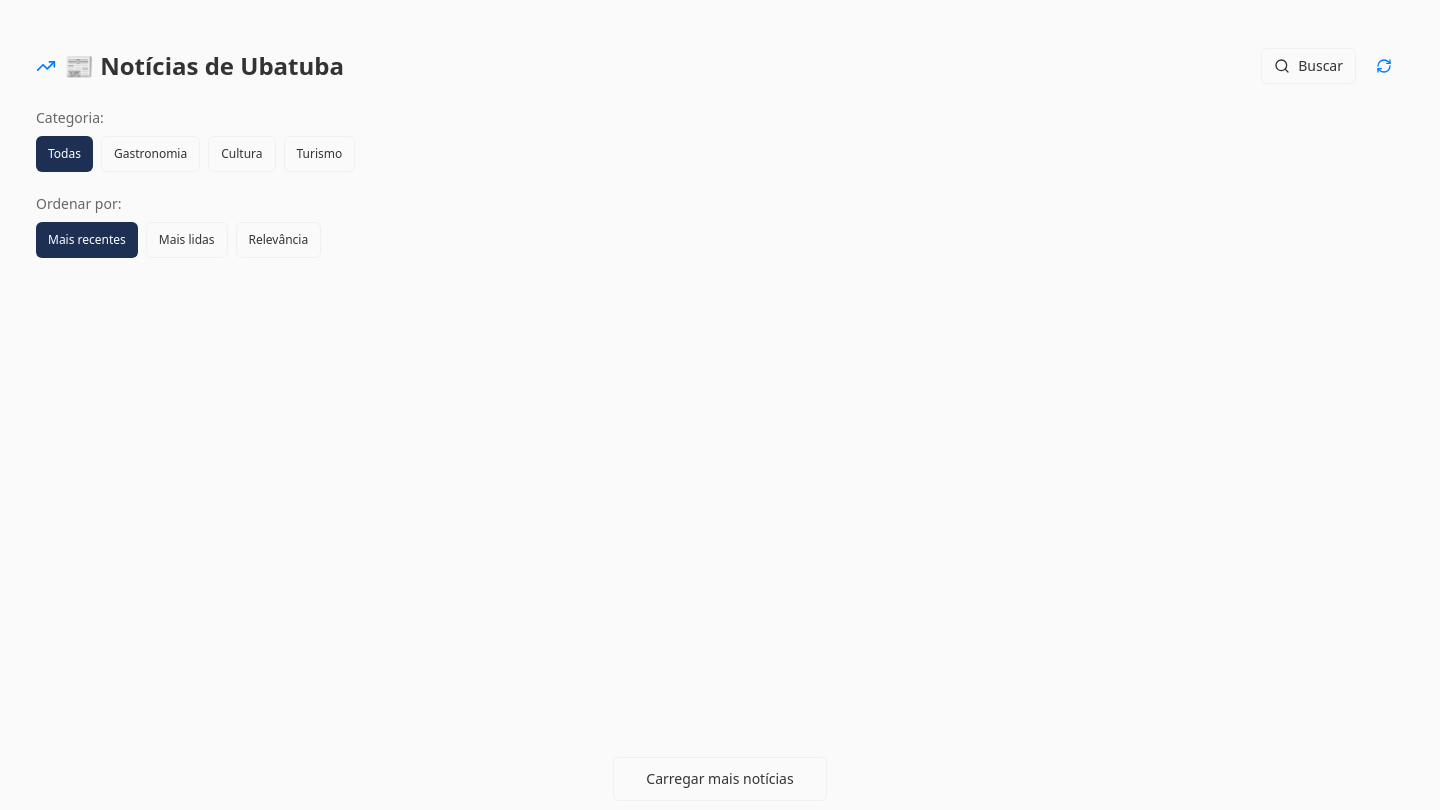
Test: MobileNewsFeed › filtra notícias por categoria
What coordinates should you click on to do the following:
click the tab "Gastronomia"
I would click on:
 (151, 154)
Its box is top-left (101, 136), bottom-right (200, 172).
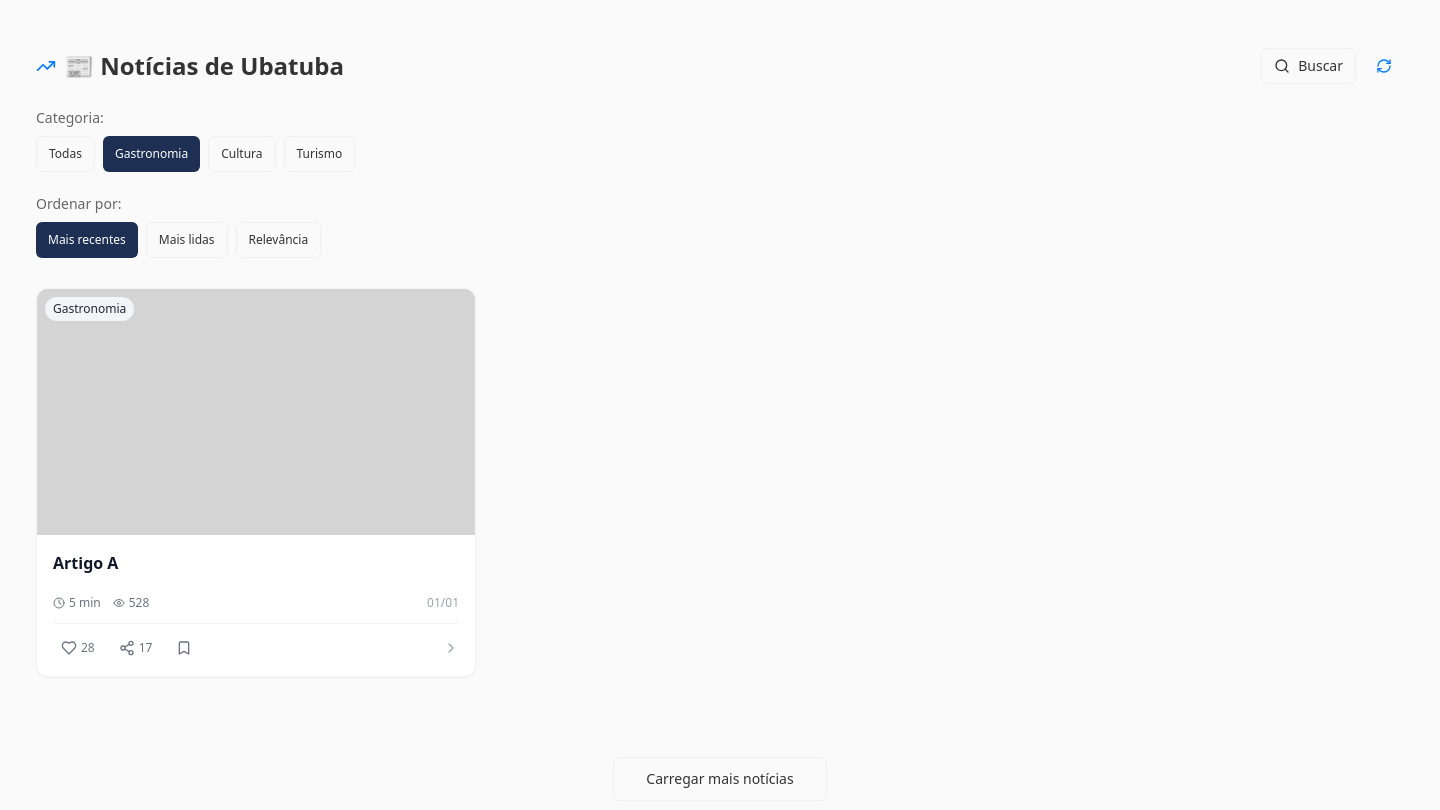
Expected: the heading "Artigo A" is shown, top-left (53, 552), bottom-right (118, 574)
